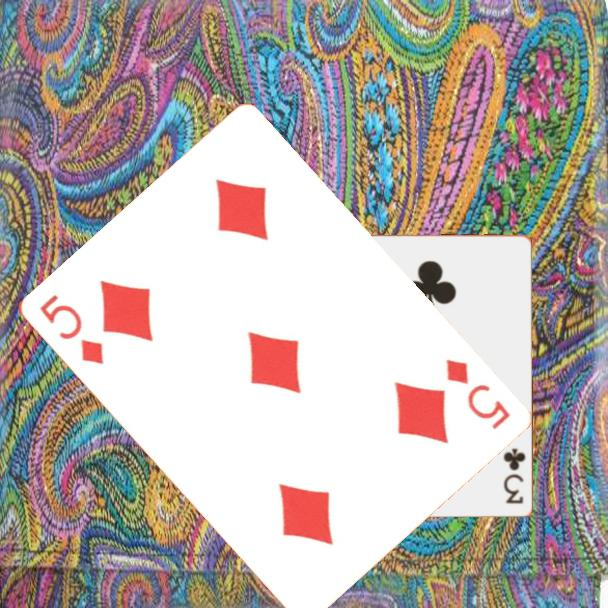c03: (500, 445, 529, 507)
d05: (441, 355, 513, 433), (35, 290, 106, 368)
